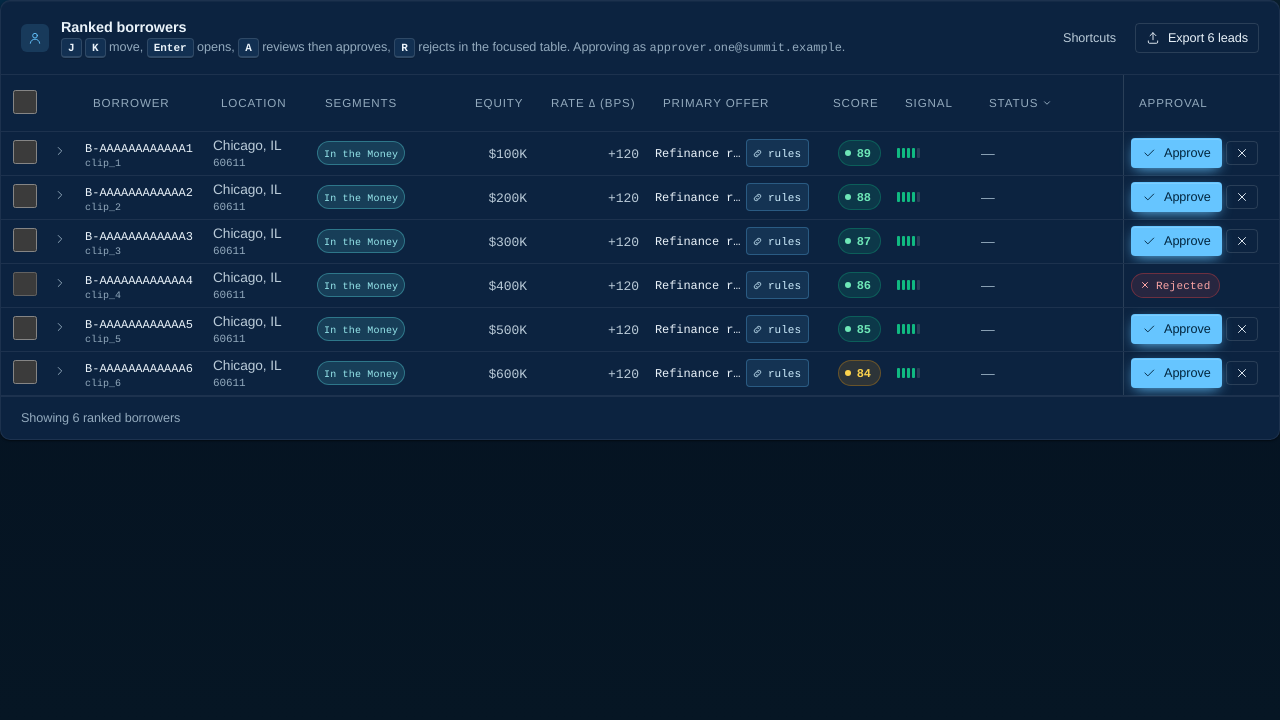
Test: LeadTable range selection and the on-screen selection › Shift-click selects anchor to target in on-screen order and skips rows that may not be selected
Click the button with aria-label "Sort by Equity": [499, 103] box [475,91,524,115]
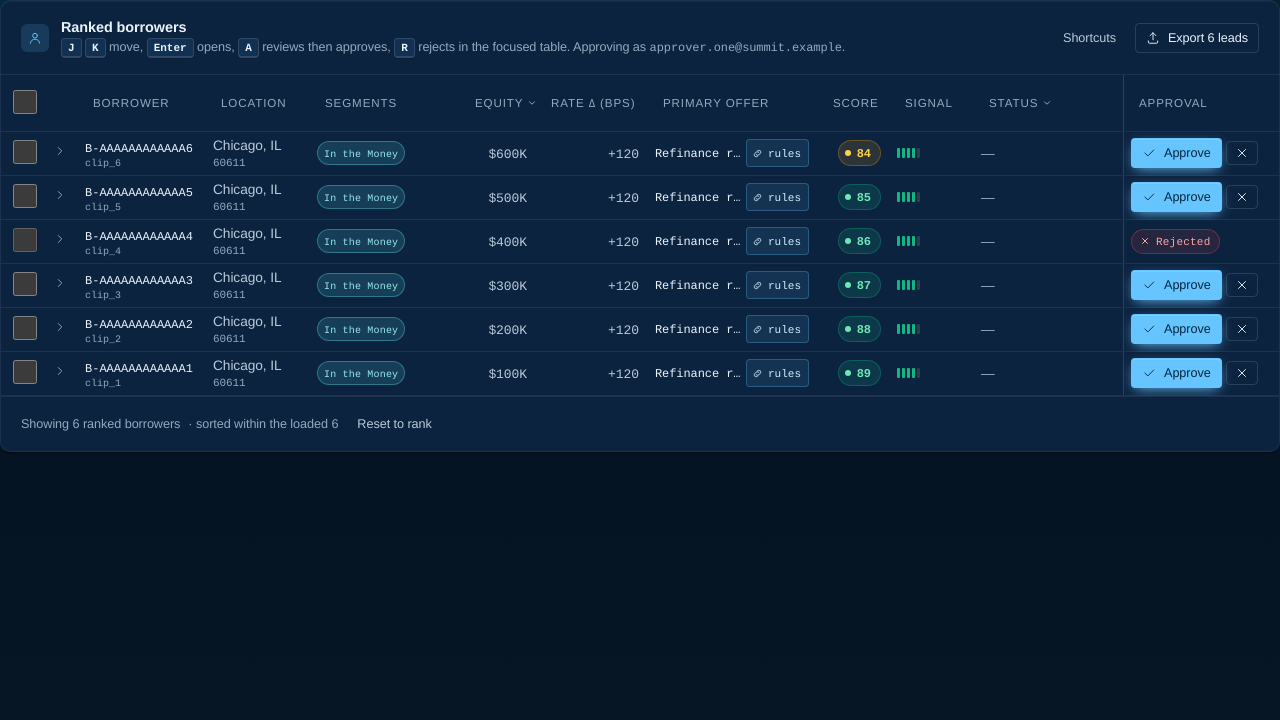
Click the checkbox named "Select lead B-AAAAAAAAAAAA5": [25, 196] box [13,184,37,208]
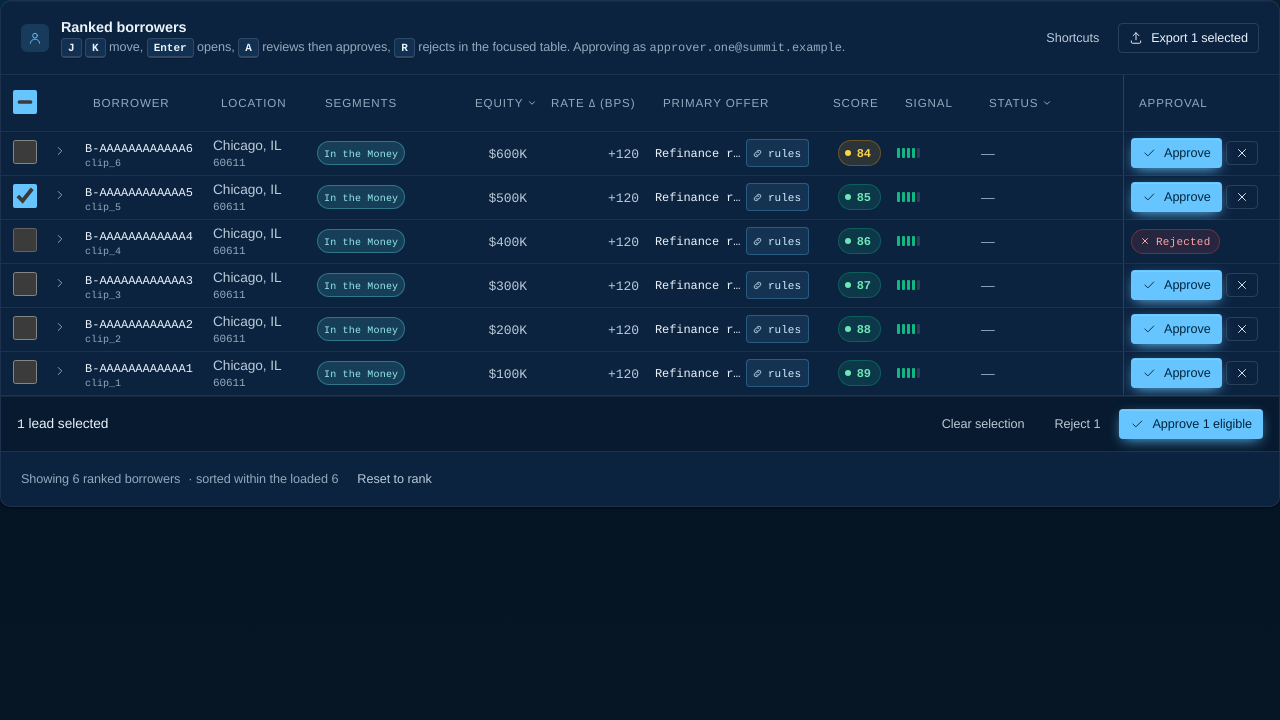
Click the checkbox named "Select lead B-AAAAAAAAAAAA2": [25, 328] box [13,316,37,340]
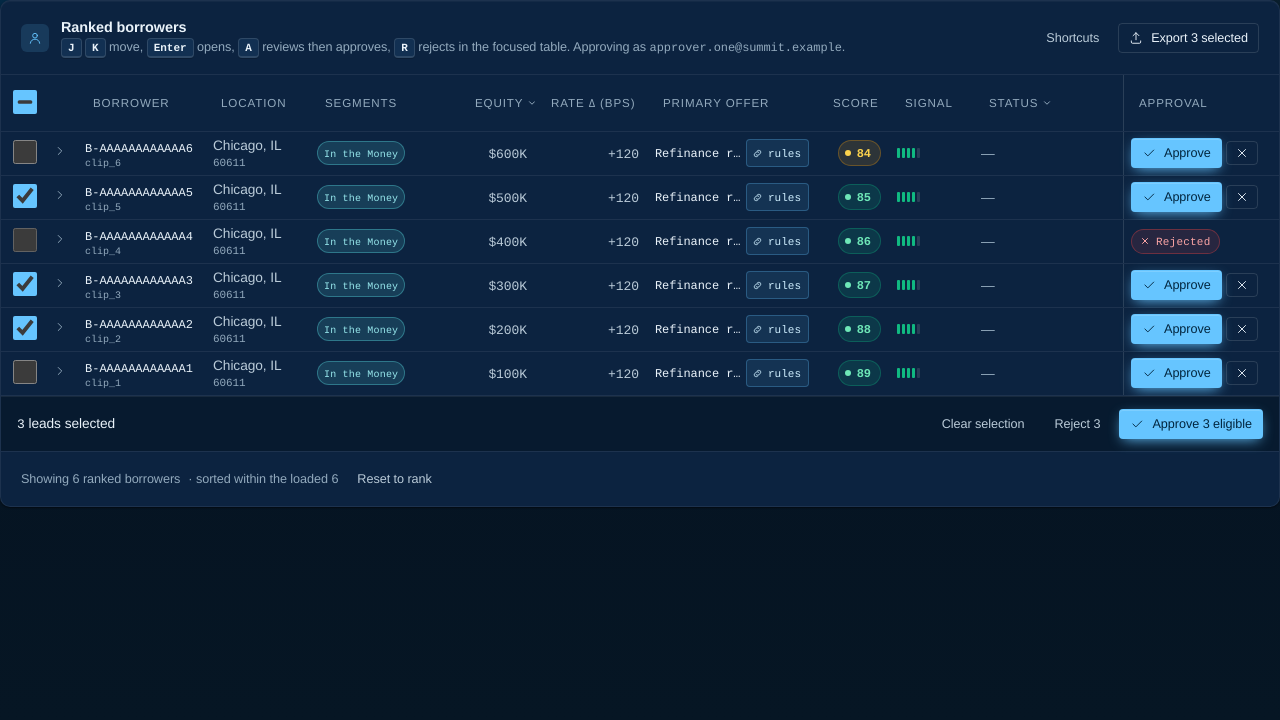
expect the element with class "bulk-actions__label" reads "3 leads selected": met, box [17,414,115,434]
